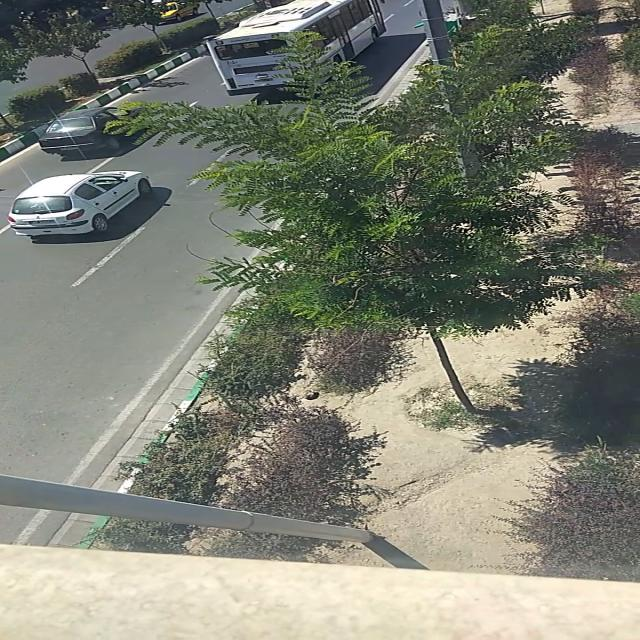bus: (206, 2, 384, 96)
car: (6, 168, 154, 236), (38, 106, 151, 158), (147, 3, 205, 23)
